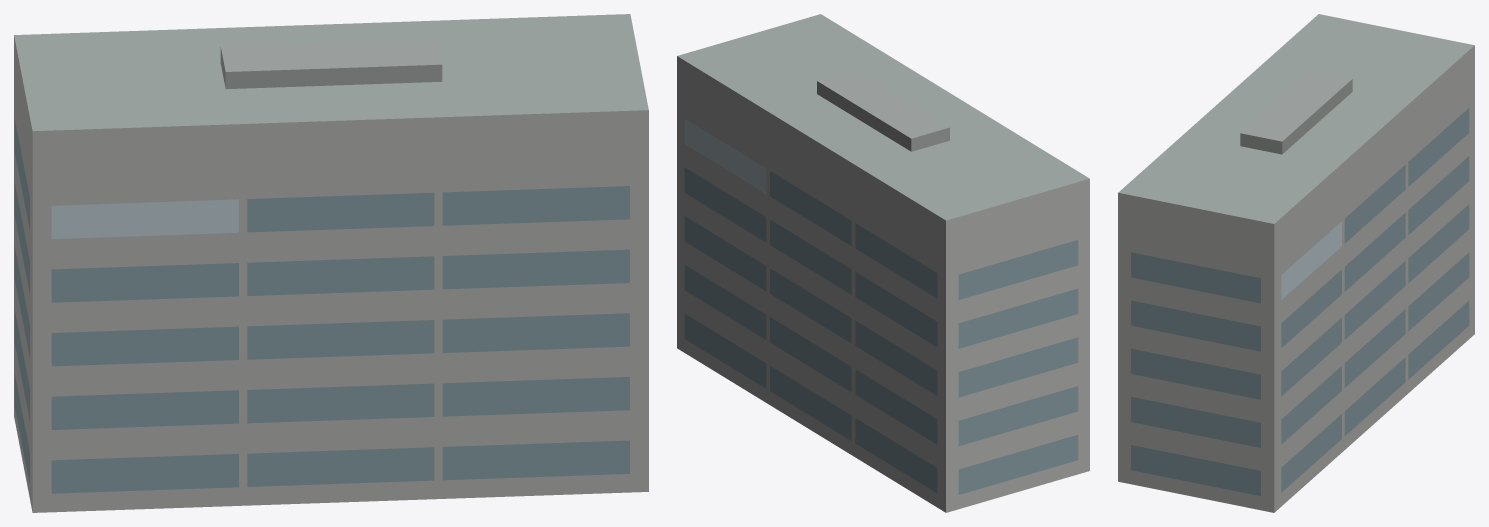
The model's file is fallback-olympic-athletes-village-249.glb.
The picture shows the model from 3 angles, left to right: view 1: azimuth 30°, elevation 25°; view 2: azimuth 150°, elevation 25°; view 3: azimuth 270°, elevation 25°; orthographic projection. The views are drawn at different scales.
Parts seen in each view (by area): view 1: fallback-olympic-athletes-village-249; view 2: fallback-olympic-athletes-village-249; view 3: fallback-olympic-athletes-village-249.
Part boxes in pixels (x1,y1,x2,y2): fallback-olympic-athletes-village-249: (14, 14, 648, 512); fallback-olympic-athletes-village-249: (677, 14, 1089, 512); fallback-olympic-athletes-village-249: (1118, 14, 1474, 512).
Size of the model in its own units: 28.52 by 19.12 by 20.47.
